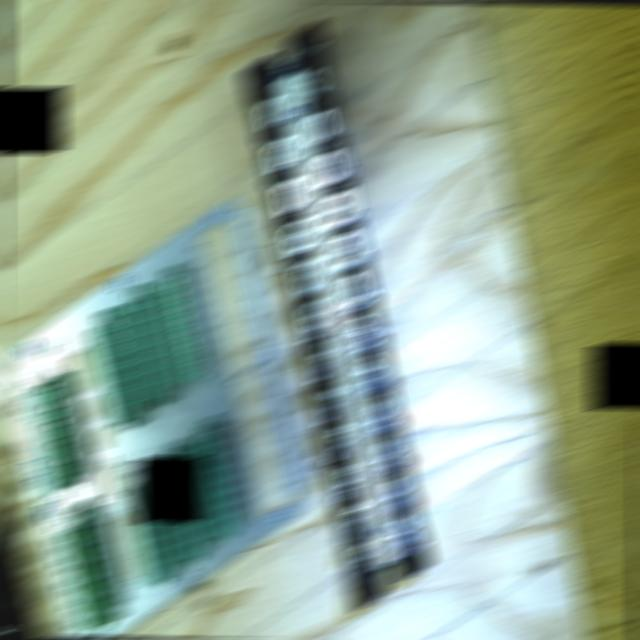Phillips_Block: (233, 20, 442, 609)
Terminal_1: (57, 517, 117, 632), (24, 378, 81, 494)
Terminal_2: (85, 315, 146, 427), (116, 292, 176, 404), (153, 452, 212, 563), (120, 476, 179, 585), (186, 429, 244, 539)
